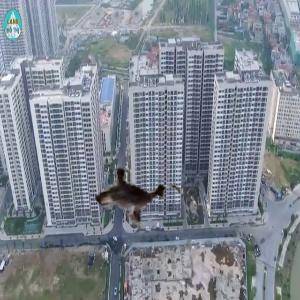drone: (74, 148, 187, 261)
